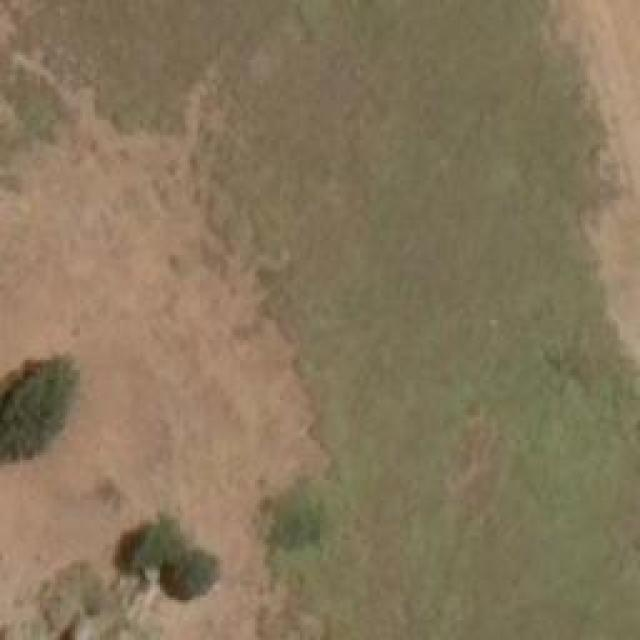Tree: (0, 358, 75, 463), (158, 548, 221, 603), (113, 523, 178, 576)
